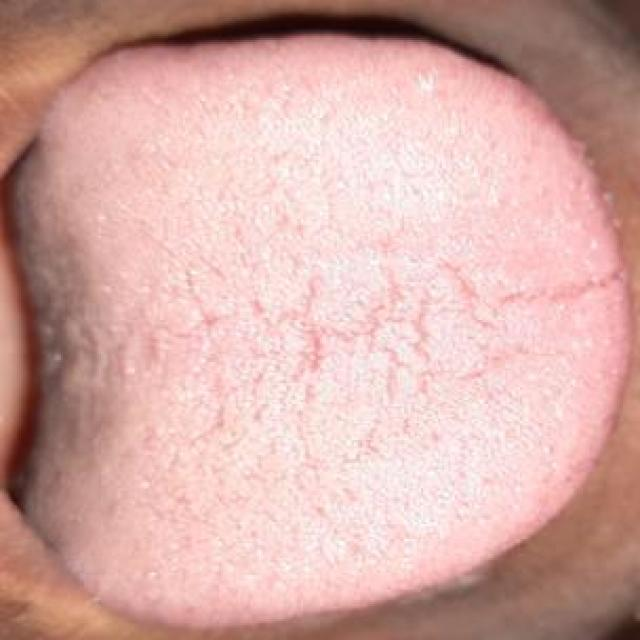processing_area: (11, 34, 638, 635)
